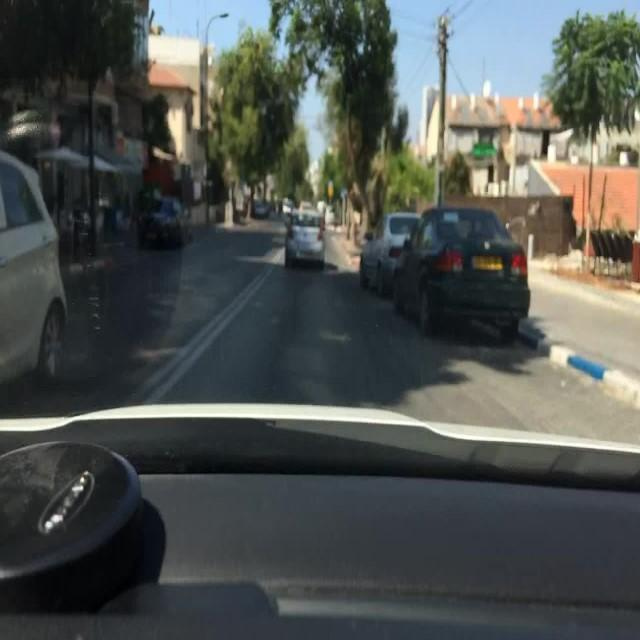normal: (347, 186, 537, 351), (125, 180, 209, 263), (276, 186, 340, 276)
single accident: (0, 132, 83, 403)
